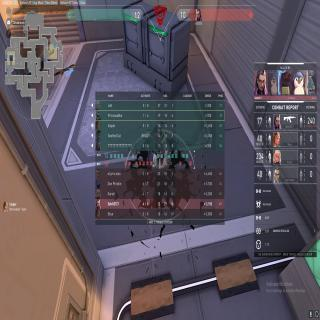ENEMY-HEAD: (153, 124, 158, 138)
